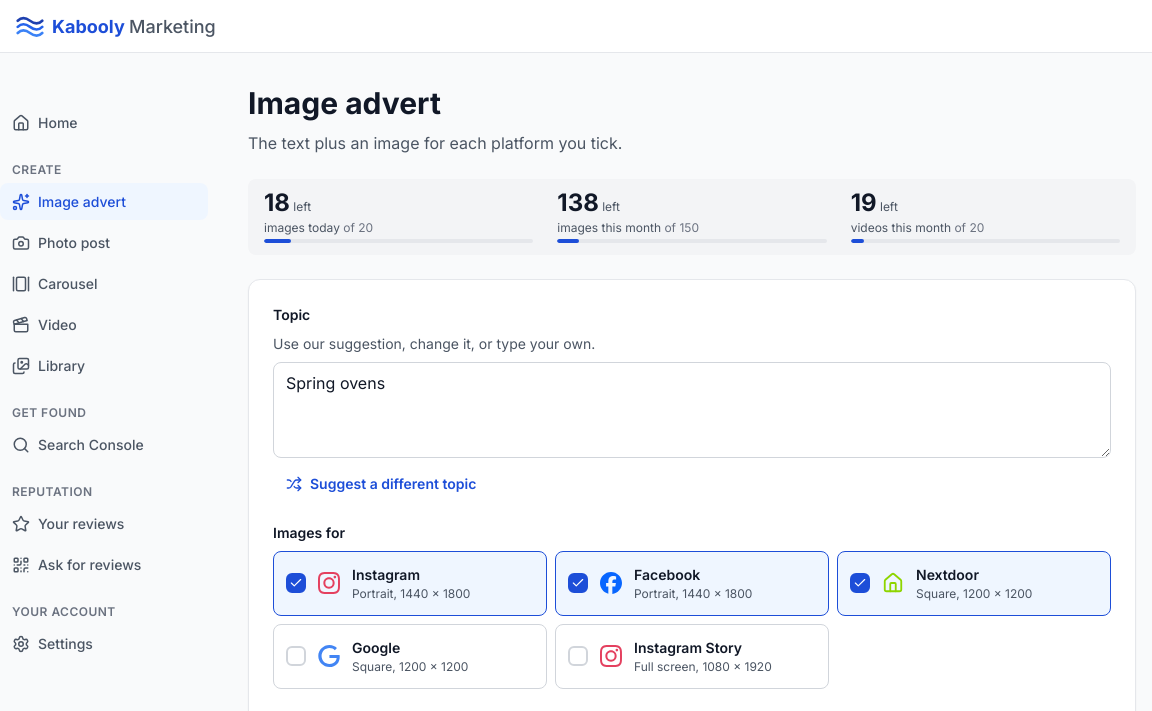
Test: topic › suggests a topic on landing and another on request, avoiding repeats
Expected: the text box with test id "topic-input" holds "Spring ovens", 273,362 -> 1111,458
Click the button with test id "suggest-topic" at (381,484), box 273,466 -> 489,502
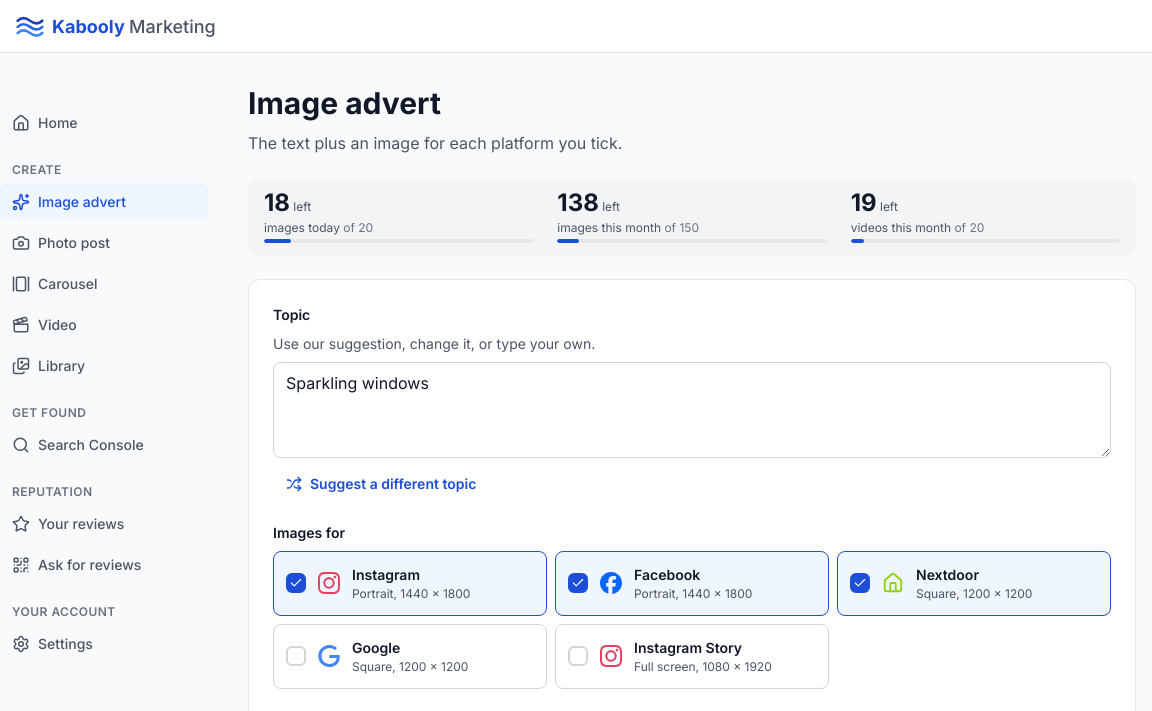
Result: the text box with test id "topic-input" holds "Sparkling windows" at 273,362 -> 1111,458
